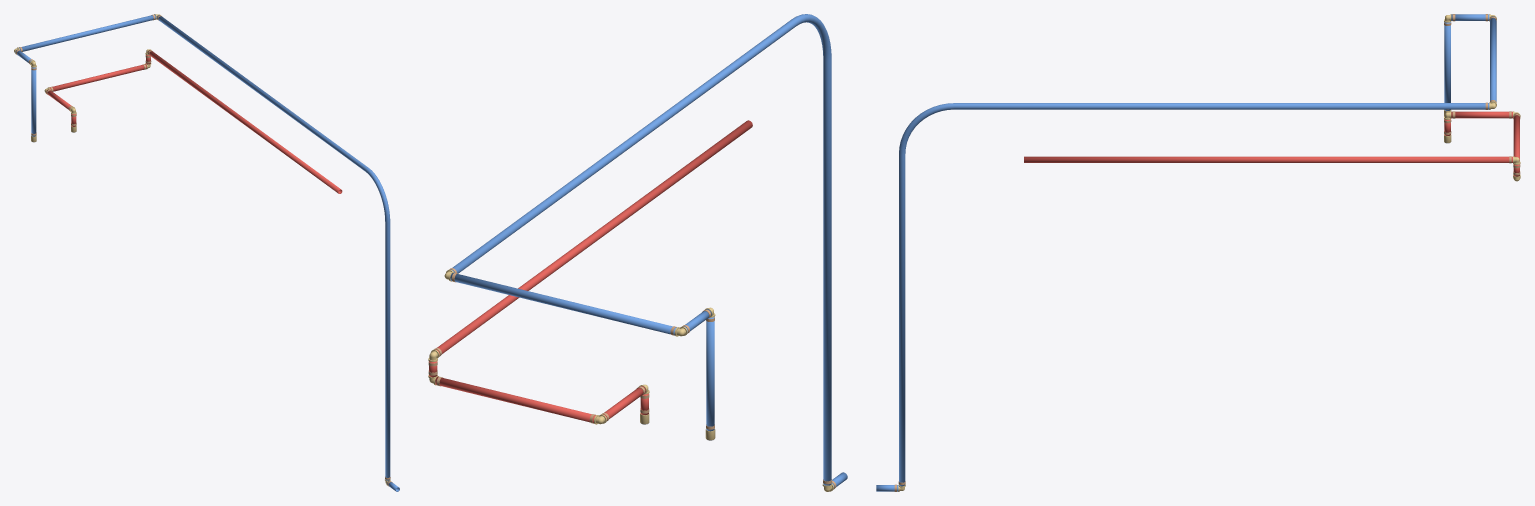
Rendered from slab_pipes_supply__water_heater-closet_gas_tank+closet_electric_tank_and_plumbing-pex_branch.glb.
3 renders of one model, left to right at view 1: azimuth 30°, elevation 25°; view 2: azimuth 150°, elevation 25°; view 3: azimuth 270°, elevation 25°, orthographic. The views are drawn at different scales.
Visible parts, largest first — view 1: pipe_supply_tb_cold_wh_closet, pipe_supply_tb_hot_wh_closet; view 2: pipe_supply_tb_cold_wh_closet, pipe_supply_tb_hot_wh_closet; view 3: pipe_supply_tb_cold_wh_closet, pipe_supply_tb_hot_wh_closet.
Part boxes in pixels (x1=…): pipe_supply_tb_cold_wh_closet: x1=15, y1=14, x2=399, y2=491; pipe_supply_tb_hot_wh_closet: x1=46, y1=50, x2=342, y2=193; pipe_supply_tb_cold_wh_closet: x1=450, y1=14, x2=847, y2=487; pipe_supply_tb_hot_wh_closet: x1=429, y1=120, x2=752, y2=423; pipe_supply_tb_cold_wh_closet: x1=876, y1=14, x2=1496, y2=491; pipe_supply_tb_hot_wh_closet: x1=1024, y1=111, x2=1519, y2=176.
Size of the model in its own units: 0.7347 by 1.45 by 2.18.
